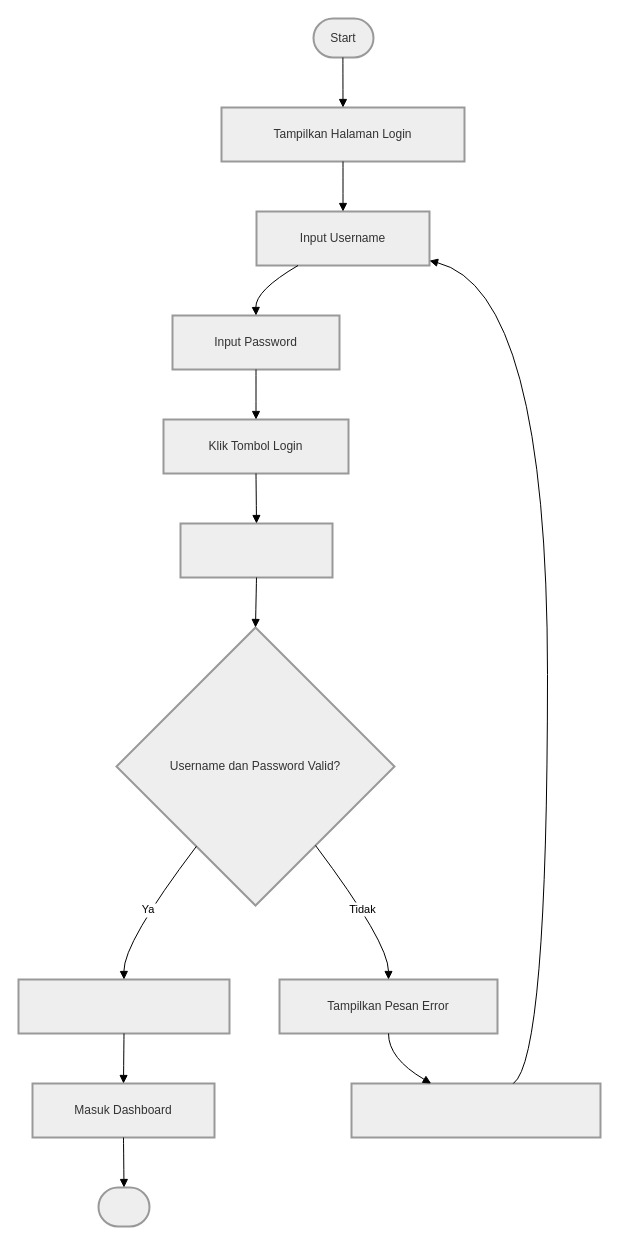
Image size: 618x1244. Some labels were removed from this diagram. The centre of each missing label's shape, as x and y in pixels:
End: the point at 123,1206
Kembali ke Halaman Login: the point at 475,1110
Simpan Session Login: the point at 123,1006
Validasi Data: the point at 256,550
